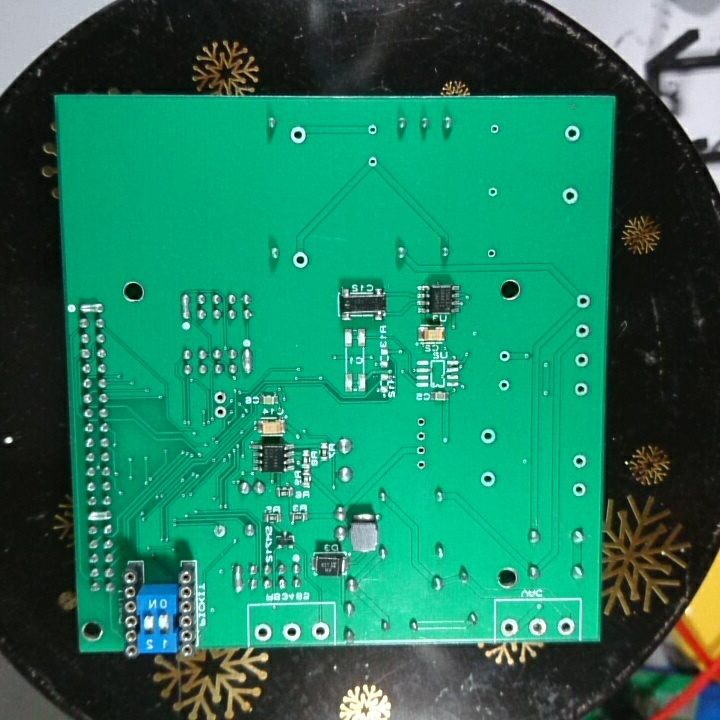F: (553, 614, 578, 638), (561, 122, 585, 146), (526, 614, 550, 638), (310, 618, 332, 643), (559, 184, 581, 208), (252, 621, 276, 643), (476, 425, 499, 447), (499, 616, 521, 639), (287, 123, 308, 146), (290, 249, 313, 270), (478, 467, 498, 491), (570, 380, 593, 400), (572, 350, 593, 371), (211, 520, 230, 542), (280, 620, 302, 639), (570, 478, 588, 500), (573, 321, 592, 341), (570, 452, 589, 472), (575, 291, 593, 312), (413, 455, 430, 473), (211, 404, 228, 422), (364, 121, 380, 140), (496, 377, 513, 394), (212, 389, 228, 406), (487, 122, 502, 140), (496, 348, 511, 366), (366, 154, 381, 170), (414, 414, 428, 429), (415, 429, 429, 443), (486, 246, 499, 261), (486, 184, 498, 200), (415, 443, 427, 457)
P: (231, 562, 245, 598), (239, 347, 254, 377), (76, 301, 106, 315), (86, 509, 114, 523), (179, 292, 191, 321)
